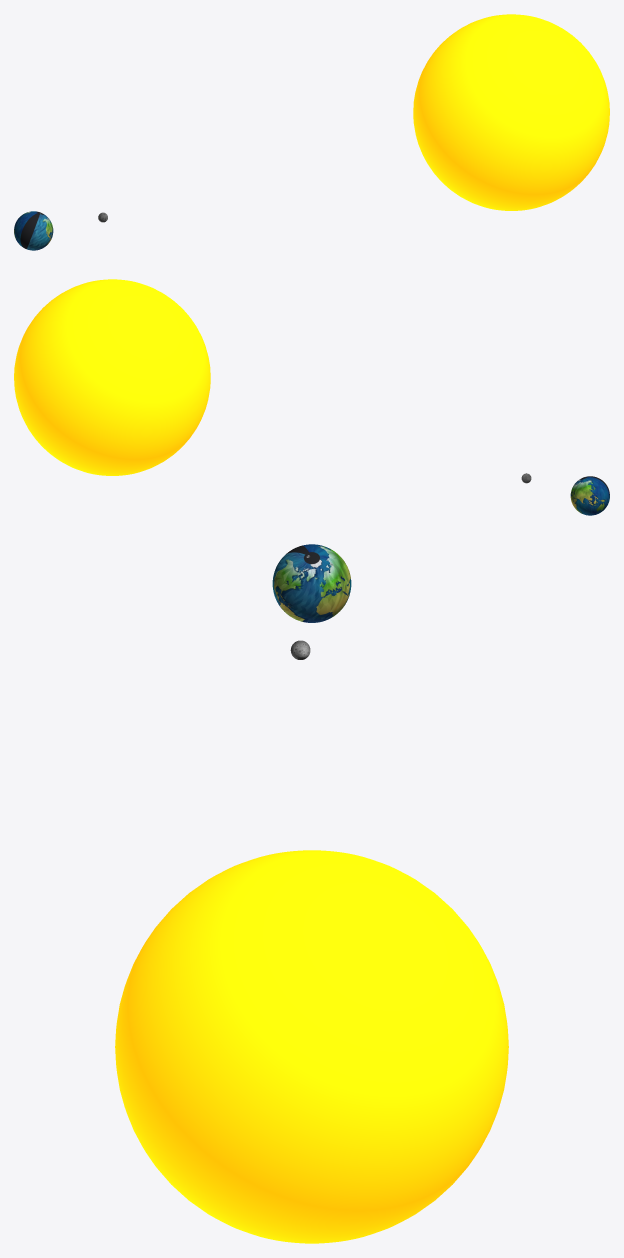
Rendered from solar_eclipse.glb.
3 renders of one model, top to bottom at view 1: azimuth 30°, elevation 25°; view 2: azimuth 150°, elevation 25°; view 3: azimuth 270°, elevation 25°, orthographic. The views are drawn at different scales.
Parts seen in each view (by area): view 1: Object_2, Object_4; view 2: Object_2, Object_4; view 3: Object_2, Object_4.
Boxes of the visible parts, box(x1,y1,x2,y2) form: Object_2: box(413, 14, 609, 210); Object_4: box(14, 211, 53, 250); Object_2: box(14, 279, 210, 475); Object_4: box(570, 476, 609, 515); Object_2: box(115, 850, 508, 1243); Object_4: box(272, 544, 351, 622).
Size of what is drawn, in the model's own units: 9.54 by 2.8 by 2.8.
Materials: 3 (2 with a texture image).
